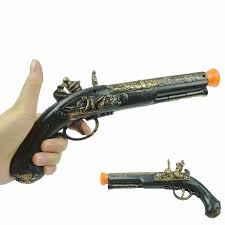Arma Falsa: (7, 69, 224, 164), (101, 159, 225, 220)
